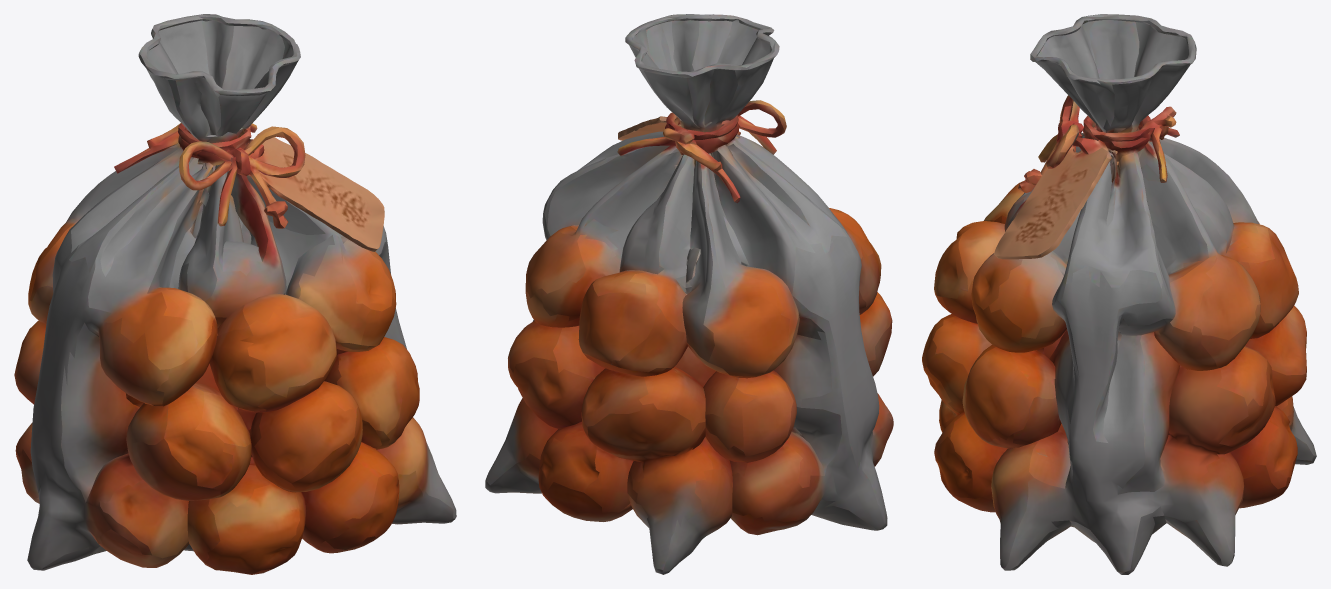
File: puff_puff.glb
3 renders of one model, left to right at view 1: azimuth 30°, elevation 25°; view 2: azimuth 150°, elevation 25°; view 3: azimuth 270°, elevation 25°, orthographic. The views are drawn at different scales.
Visible parts, largest first — view 1: geometry_0; view 2: geometry_0; view 3: geometry_0.
Boxes of the visible parts, bbox=[...] form: geometry_0: bbox=[14, 14, 456, 574]; geometry_0: bbox=[485, 14, 893, 574]; geometry_0: bbox=[922, 14, 1316, 574].
Size of the model in its own units: 0.2004 by 0.24 by 0.1914.
1 material, 1 textured.
